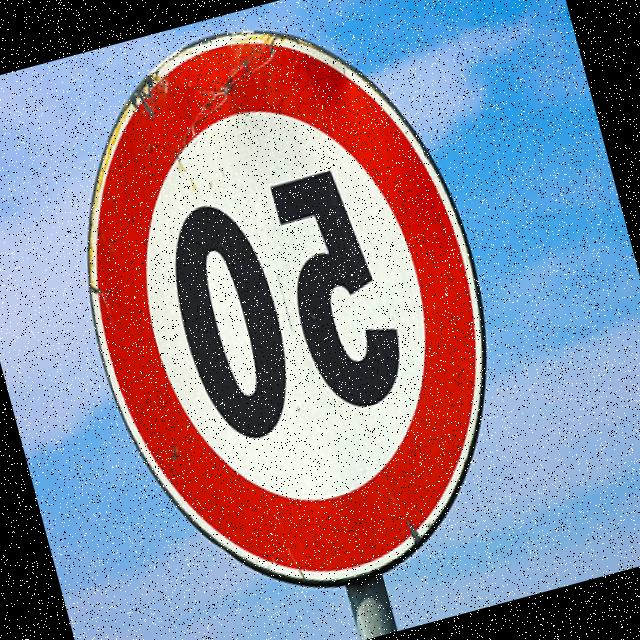speed_limit_50: (15, 0, 549, 637)
